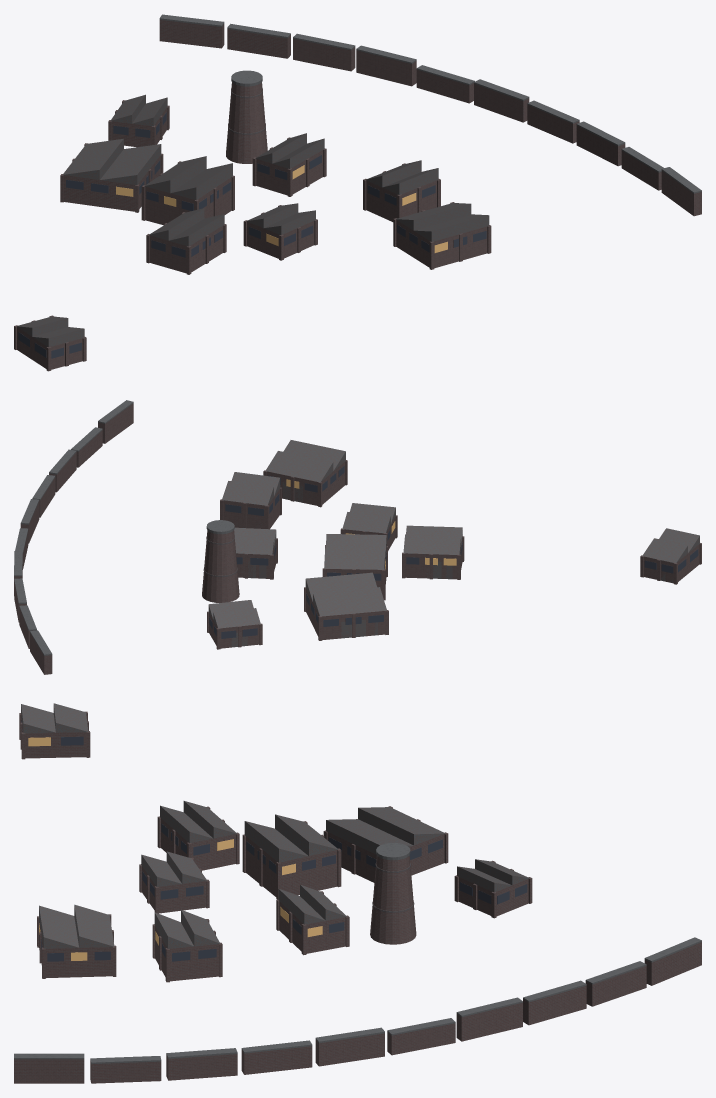
The model's file is SM_City_BaytAlDarb_0.fbx.
The picture shows the model from 3 angles, top to bottom: view 1: azimuth 30°, elevation 25°; view 2: azimuth 150°, elevation 25°; view 3: azimuth 270°, elevation 25°; orthographic projection. The views are drawn at different scales.
Parts seen in each view (by area): view 1: SM_City_BaytAlDarb_0; view 2: SM_City_BaytAlDarb_0; view 3: SM_City_BaytAlDarb_0.
Boxes of the visible parts, x1,y1,x2,y2 form: SM_City_BaytAlDarb_0: (14,14,701,371); SM_City_BaytAlDarb_0: (14,400,701,674); SM_City_BaytAlDarb_0: (14,703,701,1083).
Bounding box in the file's own units: 9672 × 1102 × 8102.
6 materials, 6 textured.
